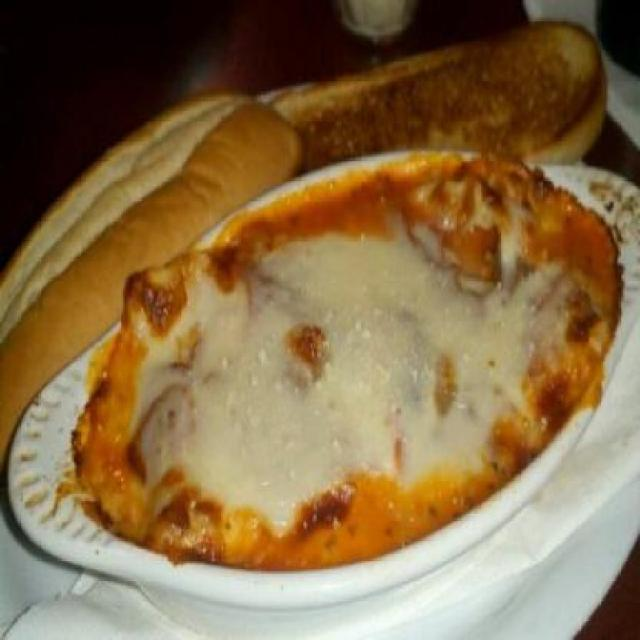Lasagna: (110, 168, 592, 600)
